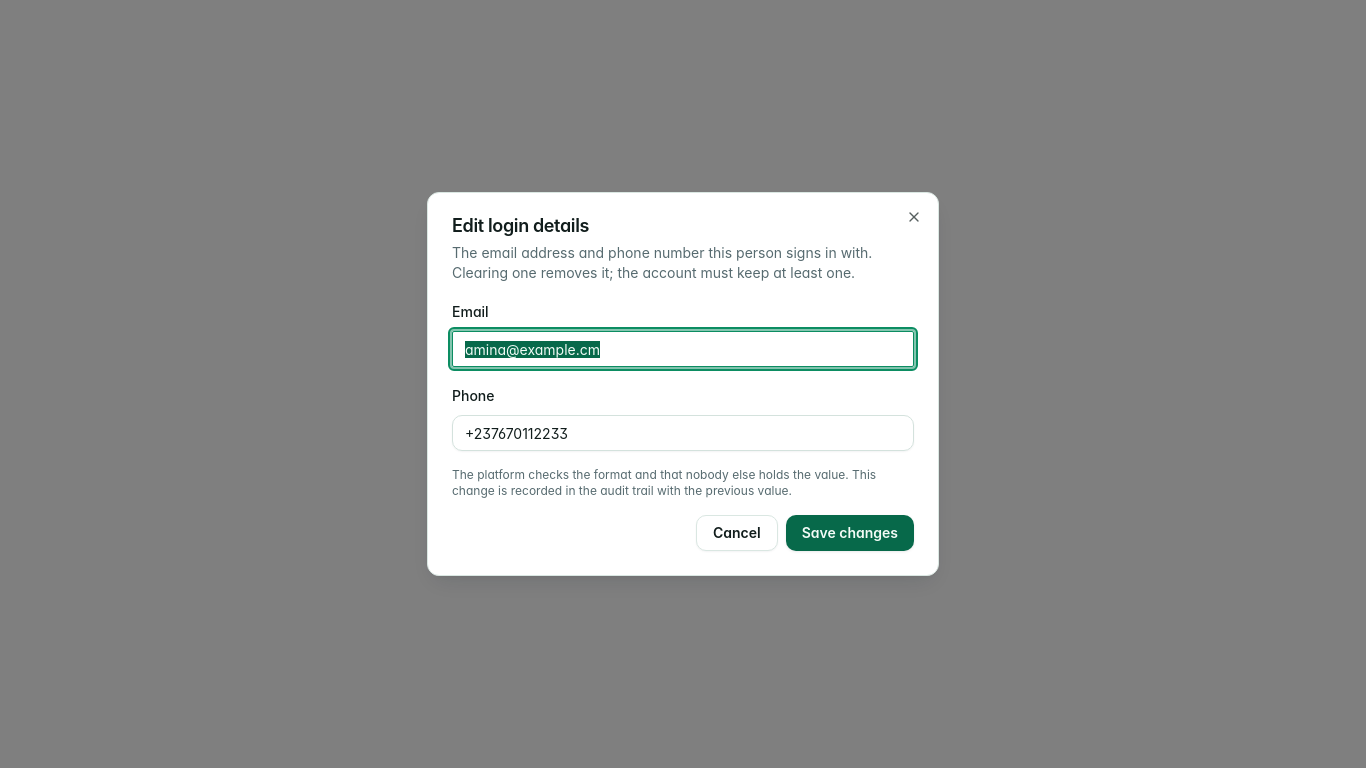
Test: what it does with a refusal › puts a taken email on the email field
The width and height of the screenshot is (1366, 768).
Replace the text in the field labelled "Email" with "taken@example.cm" at (683, 349), box [452, 331, 914, 367]
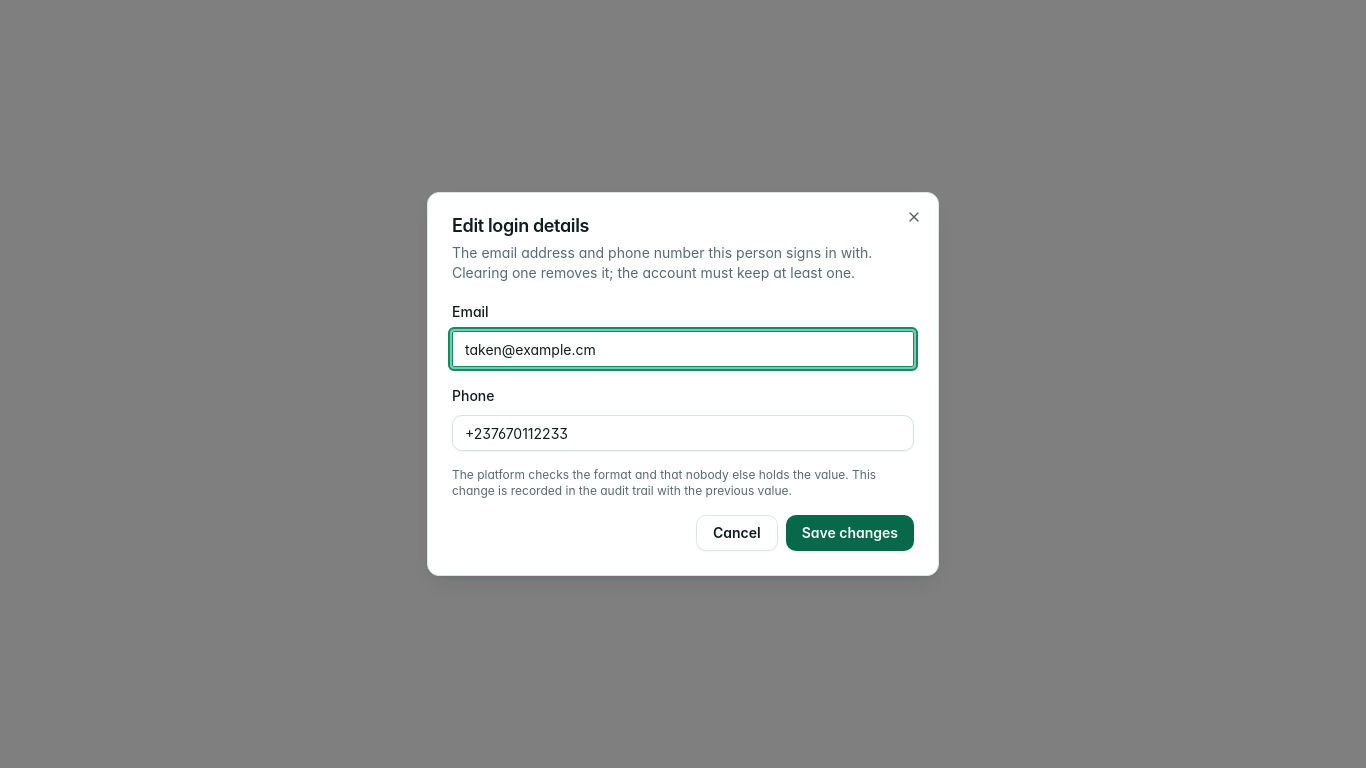
Click the button "Save changes" at (850, 533), box [786, 515, 914, 551]
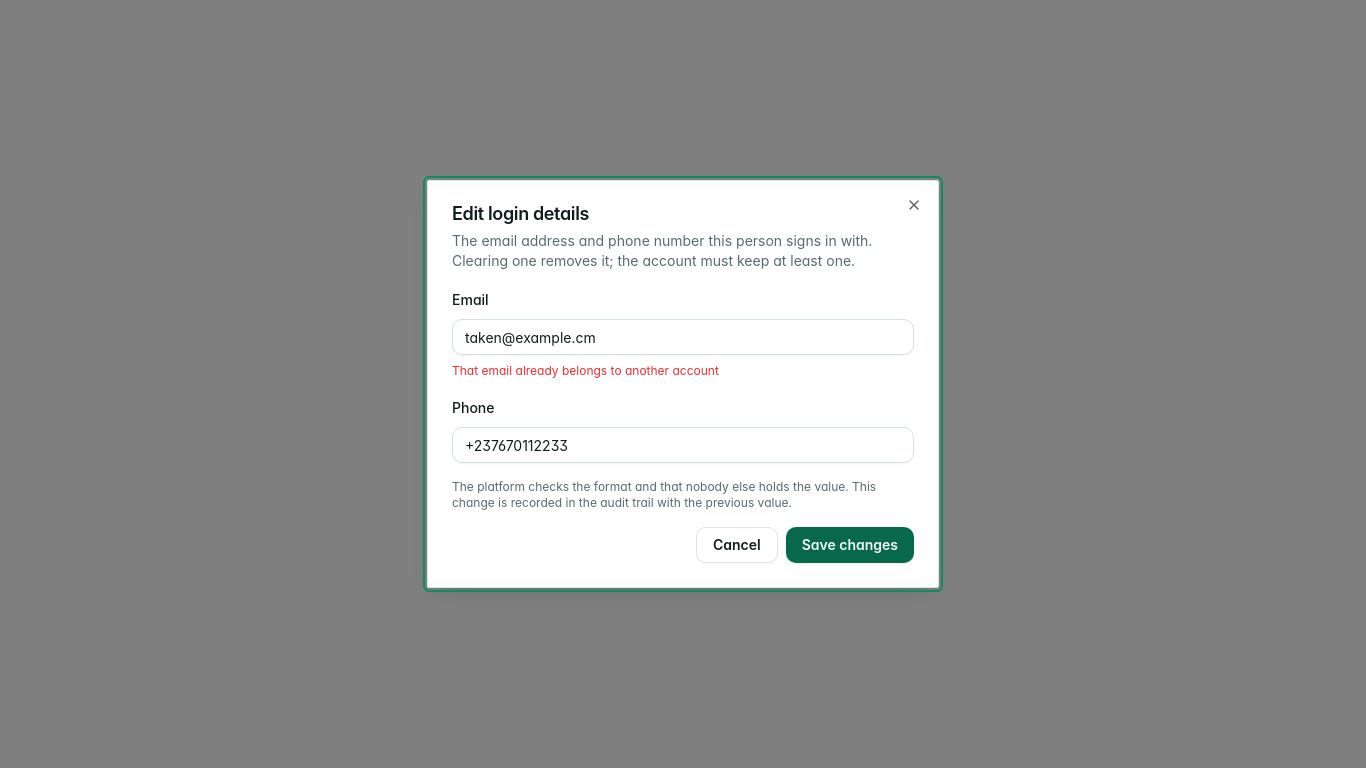
Now the text "That email already belongs to another account" is shown, box [452, 363, 719, 378]
